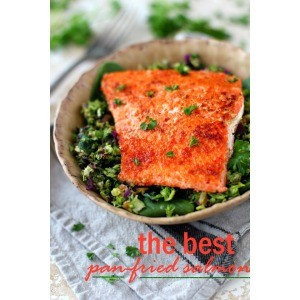salmon_brain food: (113, 66, 238, 152)
